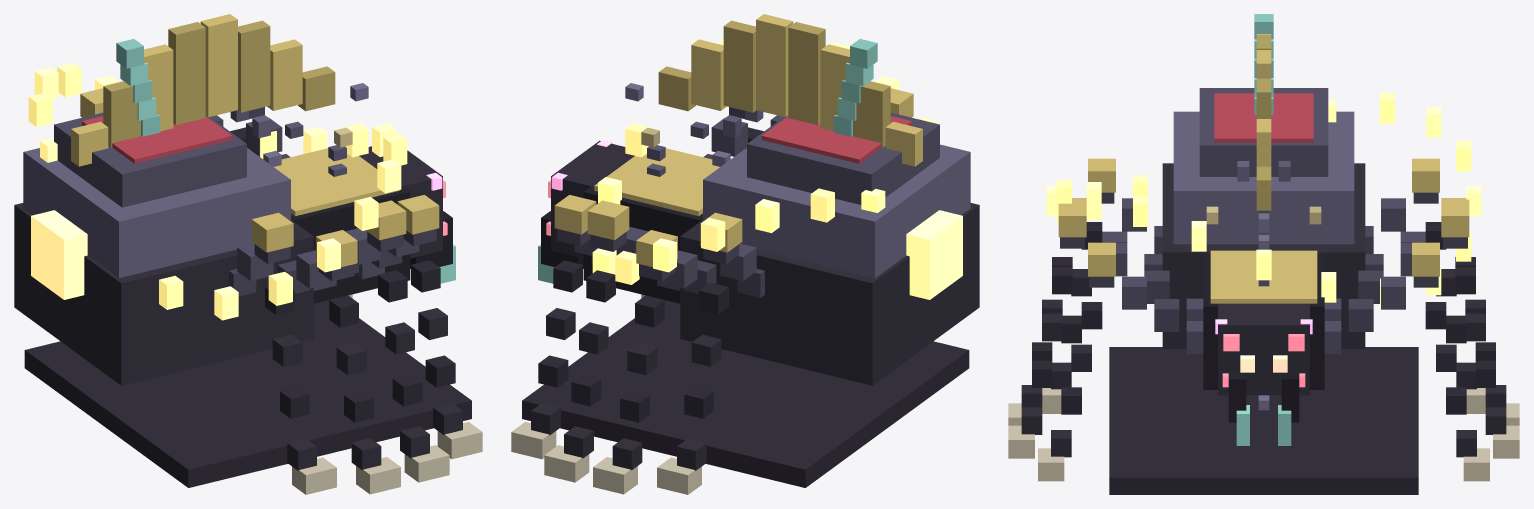
File: ladder-web-spider.glb
3 renders of one model, left to right at view 1: azimuth 30°, elevation 25°; view 2: azimuth 150°, elevation 25°; view 3: azimuth 270°, elevation 25°, orthographic. The views are drawn at different scales.
Visible parts, largest first — view 1: Abdomen, Base, Crest, Legs, Runes, Armor, Claws, Core, Body, Markings, Head, Trim (+2 smaller); view 2: Abdomen, Base, Crest, Legs, Armor, Runes, Claws, Core, Body, Markings, Head, Trim (+2 smaller); view 3: Base, Legs, Abdomen, Armor, Head, Runes, Claws, Markings, Crest, Body, Fangs, Eyes (+2 smaller).
Boxes of the visible parts, left/top/right/bottom form: Abdomen: left=14, top=112, right=313, bottom=385; Base: left=24, top=300, right=471, bottom=487; Crest: left=71, top=14, right=335, bottom=166; Legs: left=210, top=107, right=462, bottom=470; Runes: left=28, top=63, right=407, bottom=320; Armor: left=80, top=88, right=439, bottom=267; Claws: left=292, top=422, right=482, bottom=494; Core: left=31, top=210, right=87, bottom=299; Body: left=291, top=186, right=410, bottom=303; Markings: left=82, top=116, right=232, bottom=163; Head: left=359, top=146, right=442, bottom=258; Trim: left=263, top=83, right=368, bottom=176; Abdomen: left=680, top=112, right=979, bottom=385; Base: left=522, top=300, right=969, bottom=487; Crest: left=658, top=14, right=922, bottom=166; Legs: left=531, top=107, right=783, bottom=470; Armor: left=554, top=88, right=913, bottom=267; Runes: left=592, top=39, right=936, bottom=284; Claws: left=511, top=422, right=701, bottom=494; Core: left=906, top=210, right=962, bottom=299; Body: left=583, top=156, right=702, bottom=303; Markings: left=761, top=116, right=911, bottom=163; Head: left=551, top=140, right=634, bottom=258; Trim: left=625, top=83, right=730, bottom=176; Base: left=1109, top=347, right=1418, bottom=494; Legs: left=1021, top=192, right=1506, bottom=457; Abdomen: left=1162, top=88, right=1365, bottom=348; Armor: left=1058, top=158, right=1469, bottom=303; Head: left=1218, top=303, right=1309, bottom=395; Runes: left=1046, top=92, right=1481, bottom=309; Claws: left=1008, top=388, right=1519, bottom=481; Markings: left=1214, top=93, right=1313, bottom=142; Crest: left=1254, top=14, right=1273, bottom=210; Body: left=1203, top=252, right=1324, bottom=389; Fangs: left=1228, top=372, right=1299, bottom=445; Eyes: left=1215, top=319, right=1312, bottom=387.
Size of the model in its own units: 5.83 by 5.38 by 6.94.
